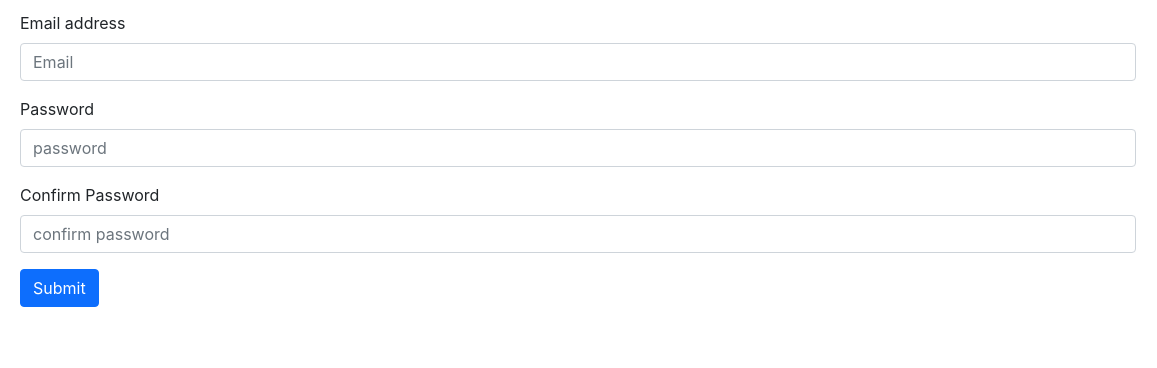
it: the confirm password does not match
The width and height of the screenshot is (1157, 368).
Expected: the text "the passwords do not match" is not shown
Type "dan@test.com" into the field labelled "Email address" at coordinates (578, 62), box x1=20 y1=43 x2=1136 y2=81
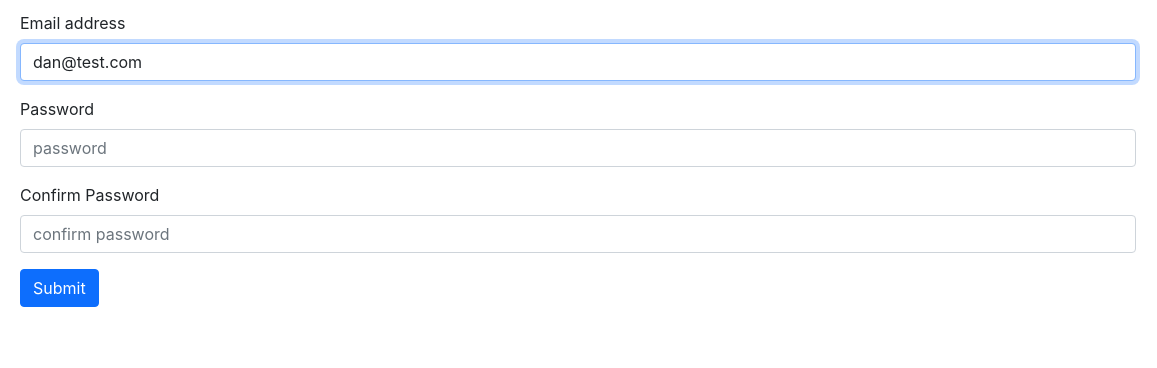
Type "12345" into the password field labelled "Password" at coordinates (578, 148), box x1=20 y1=129 x2=1136 y2=167
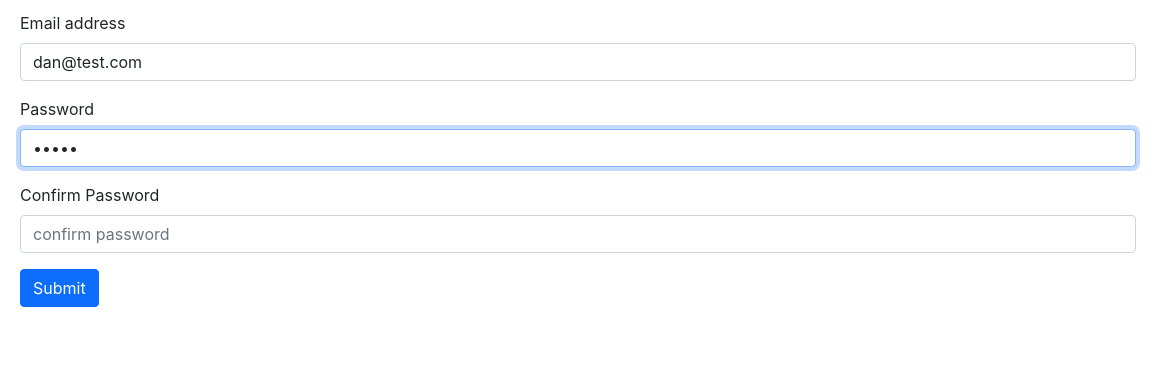
Type "password123" into the password field labelled "Confirm Password" at coordinates (578, 234), box x1=20 y1=215 x2=1136 y2=253
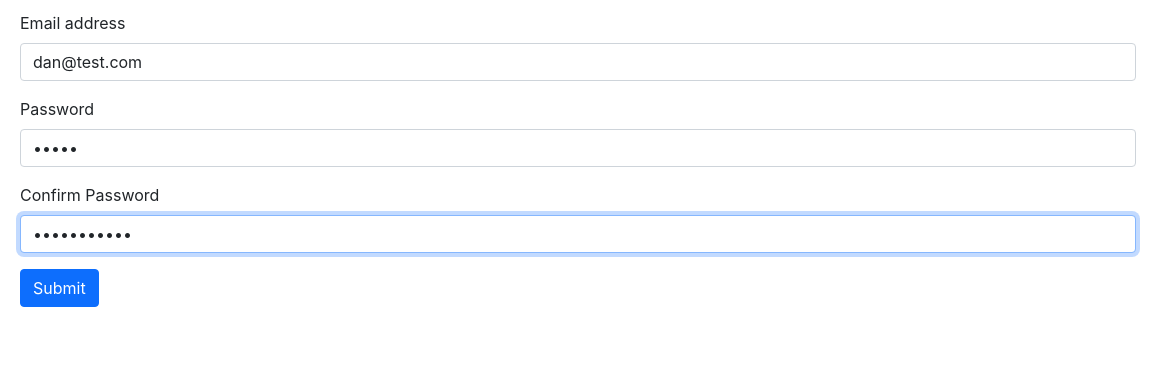
Click the button "Submit" at coordinates (59, 288), box x1=20 y1=269 x2=99 y2=307
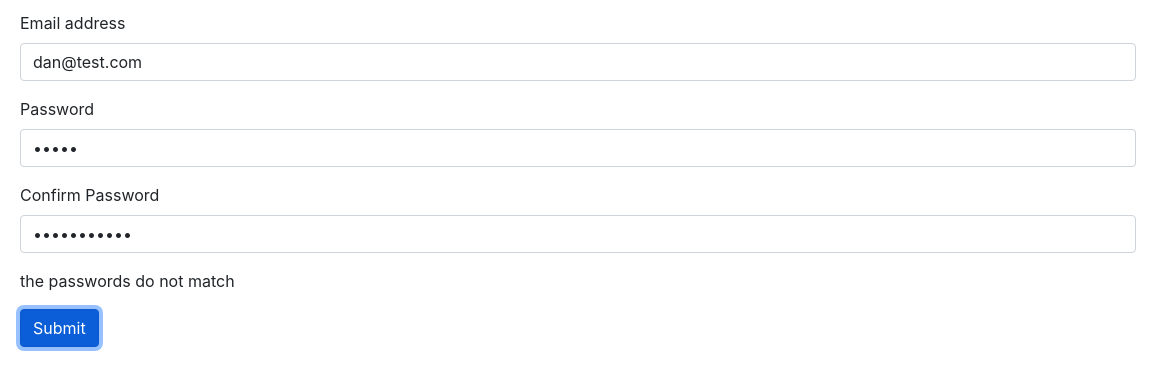
Expected: the text "the passwords do not match" is shown, x1=20 y1=271 x2=235 y2=291
